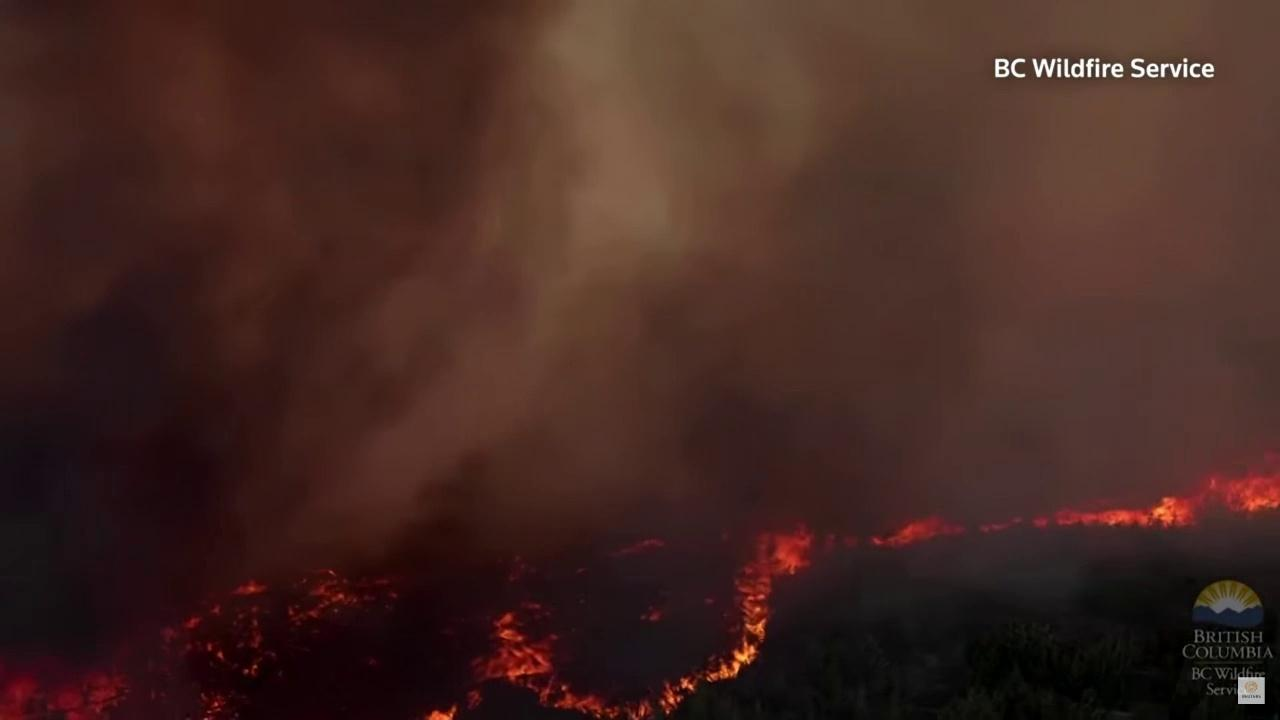fire: (423, 445, 1280, 720), (0, 566, 404, 720)
smoke: (0, 0, 1280, 720)
